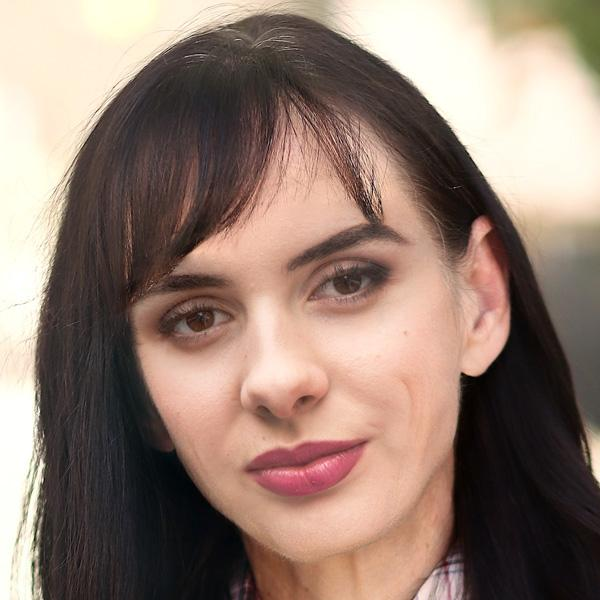Eyes: (151, 286, 249, 358), (299, 245, 396, 313)
